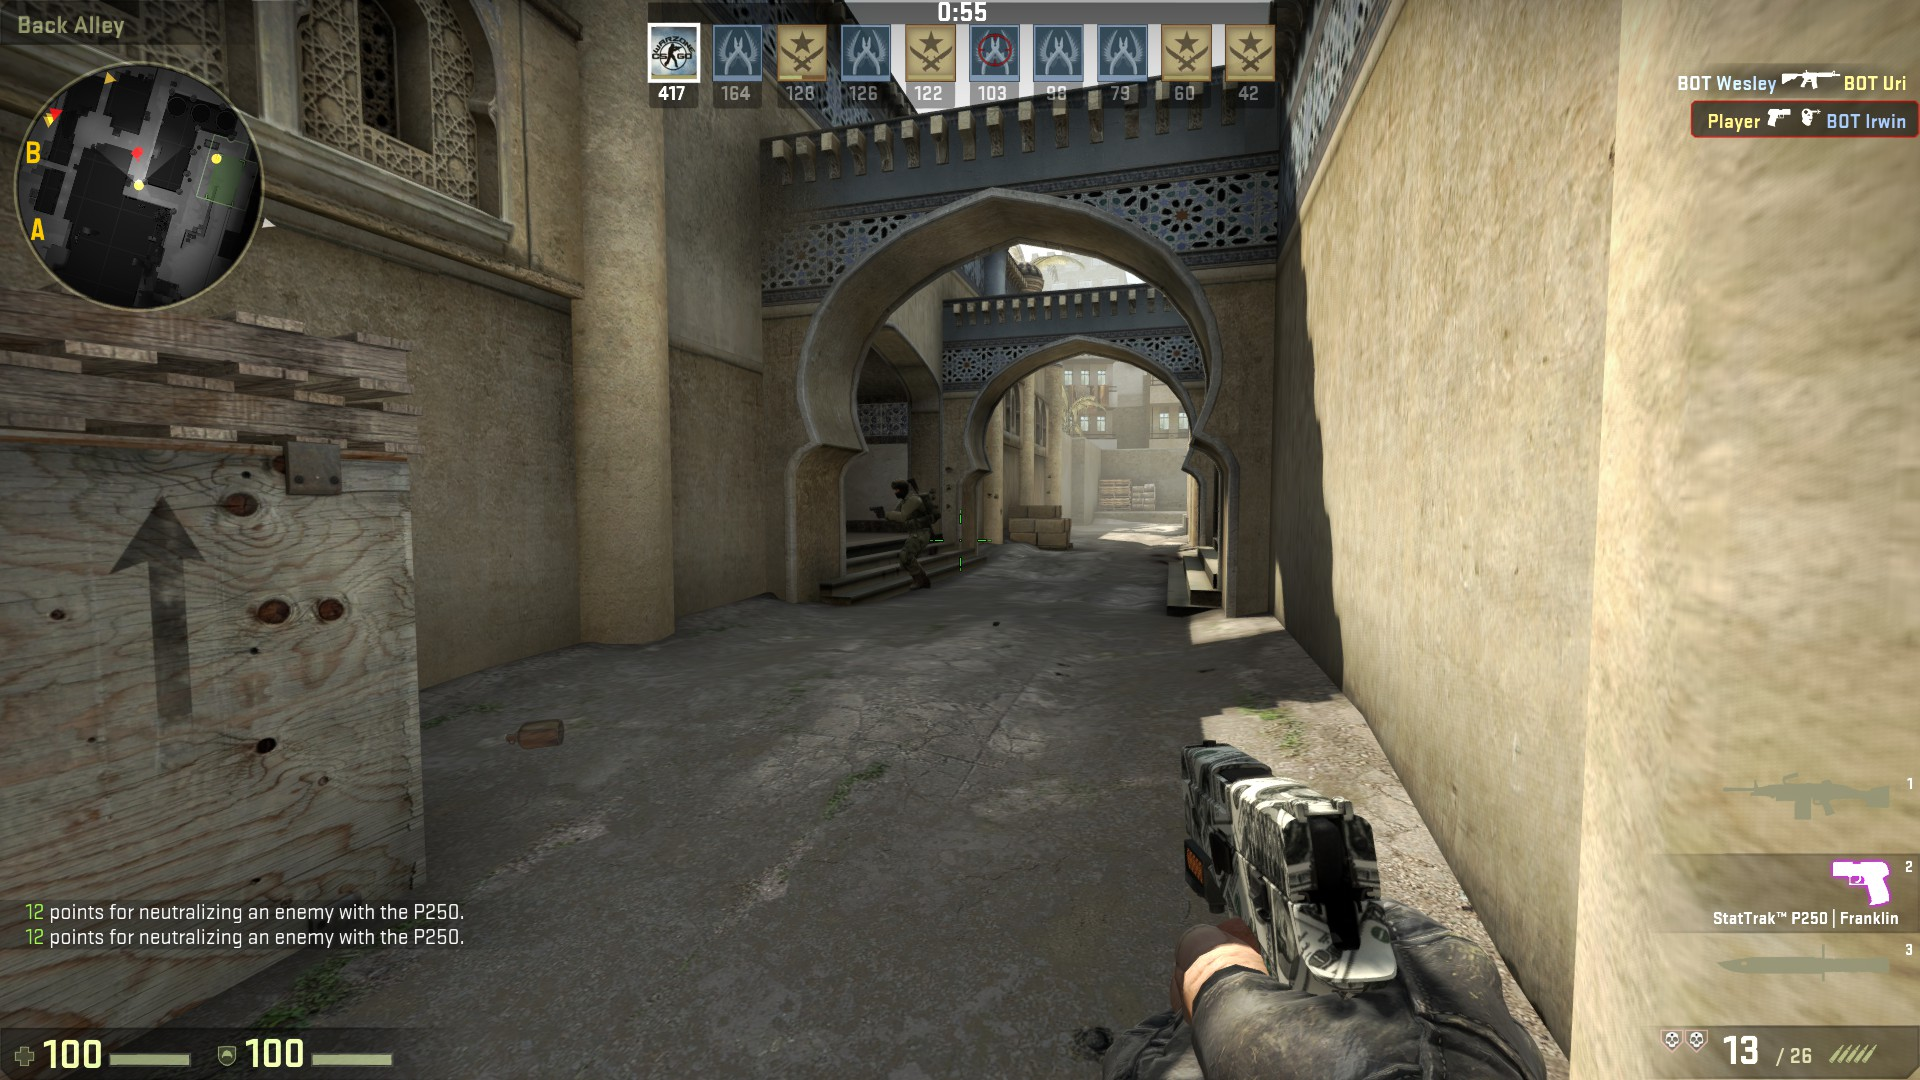c: (880, 477, 938, 595)
ch: (887, 477, 913, 500)
